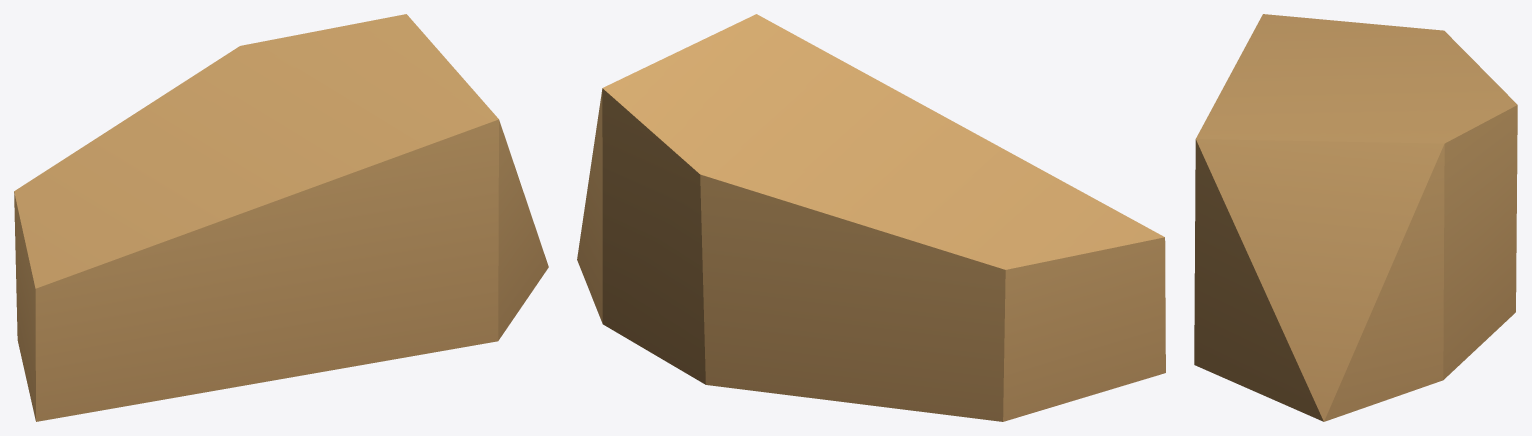
The model's file is desert stone small 10.fbx.
3 renders of one model, left to right at view 1: azimuth 30°, elevation 25°; view 2: azimuth 150°, elevation 25°; view 3: azimuth 270°, elevation 25°, orthographic. The views are drawn at different scales.
Visible parts, largest first — view 1: desert stone small 10; view 2: desert stone small 10; view 3: desert stone small 10.
Part boxes in pixels (x1,y1,x2,y2): desert stone small 10: (14,14,548,421); desert stone small 10: (577,14,1165,421); desert stone small 10: (1194,14,1517,421).
Bounding box in the file's own units: 154 × 62.42 × 77.37.
